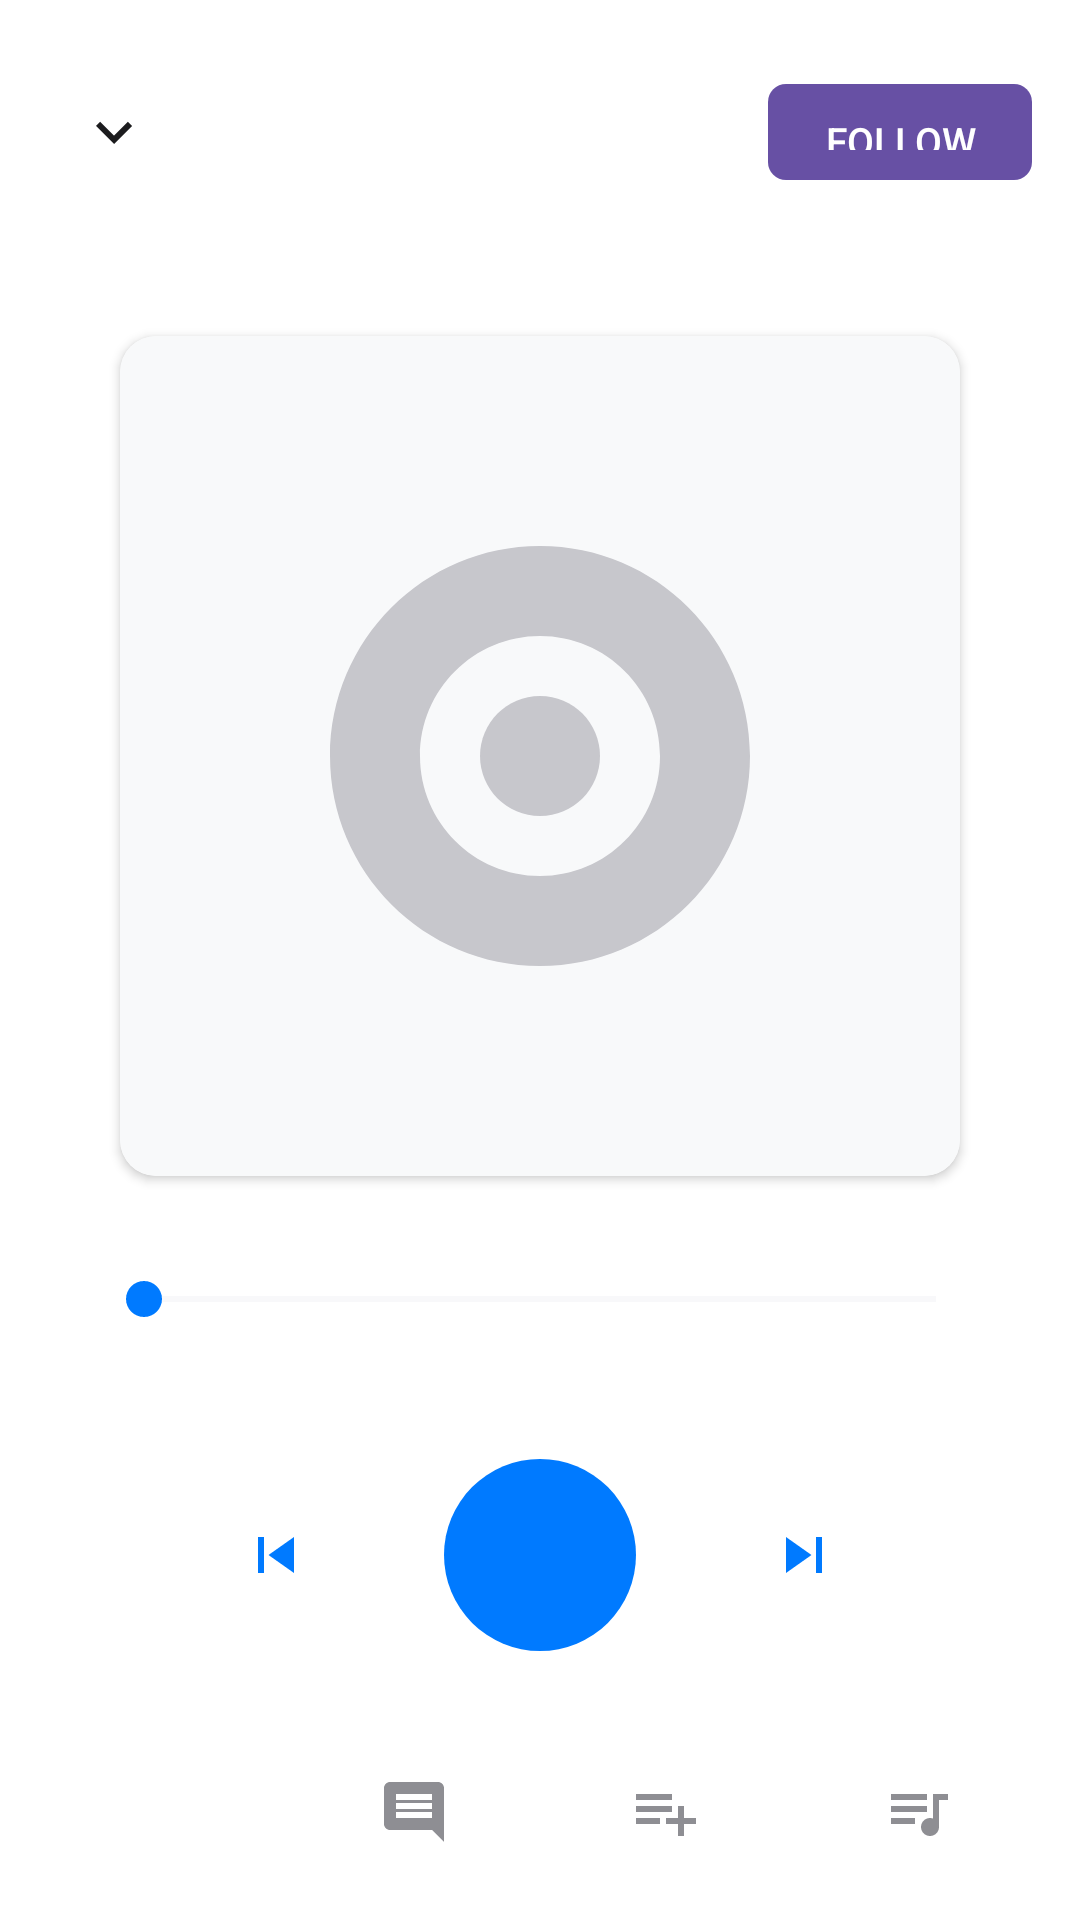

Screen size 1080 × 1920. Icon name, then its box in pixels as {"left": x1, "top": y1, "right": x2, "bottom": y2}:
Add to playlist: {"left": 636, "top": 1794, "right": 696, "bottom": 1836}
Minimize player: {"left": 96, "top": 122, "right": 132, "bottom": 144}
Next track: {"left": 786, "top": 1537, "right": 822, "bottom": 1573}
Previous track: {"left": 258, "top": 1537, "right": 294, "bottom": 1573}
View comments: {"left": 384, "top": 1782, "right": 444, "bottom": 1842}
View queue: {"left": 891, "top": 1794, "right": 948, "bottom": 1836}
